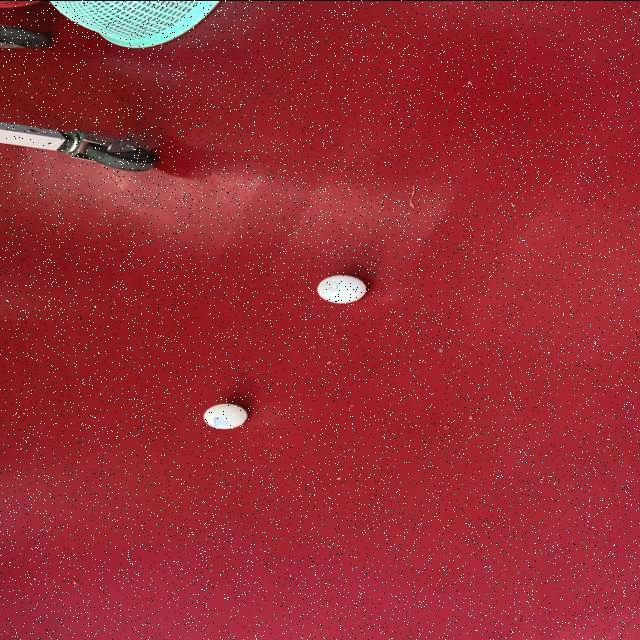ping-pong-ball: (314, 272, 368, 304), (202, 401, 250, 429)
